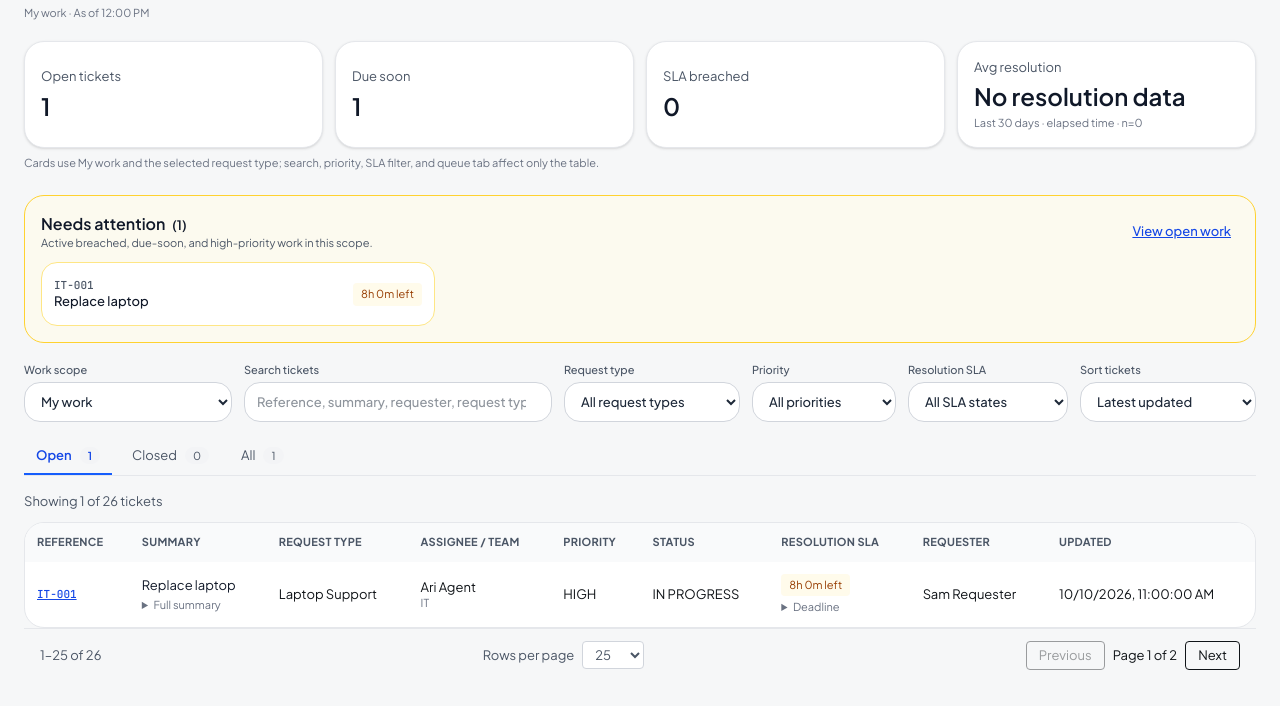
Test: AgentDashboard › moves to the last available page when a refresh shrinks the result set
The width and height of the screenshot is (1280, 706).
(page scrolled)
expect the link "IT-001" is shown: met, box left=37, top=587, right=77, bottom=601
Click the button "Next".
click(1213, 655)  # box left=1185, top=641, right=1240, bottom=670
(page scrolled)
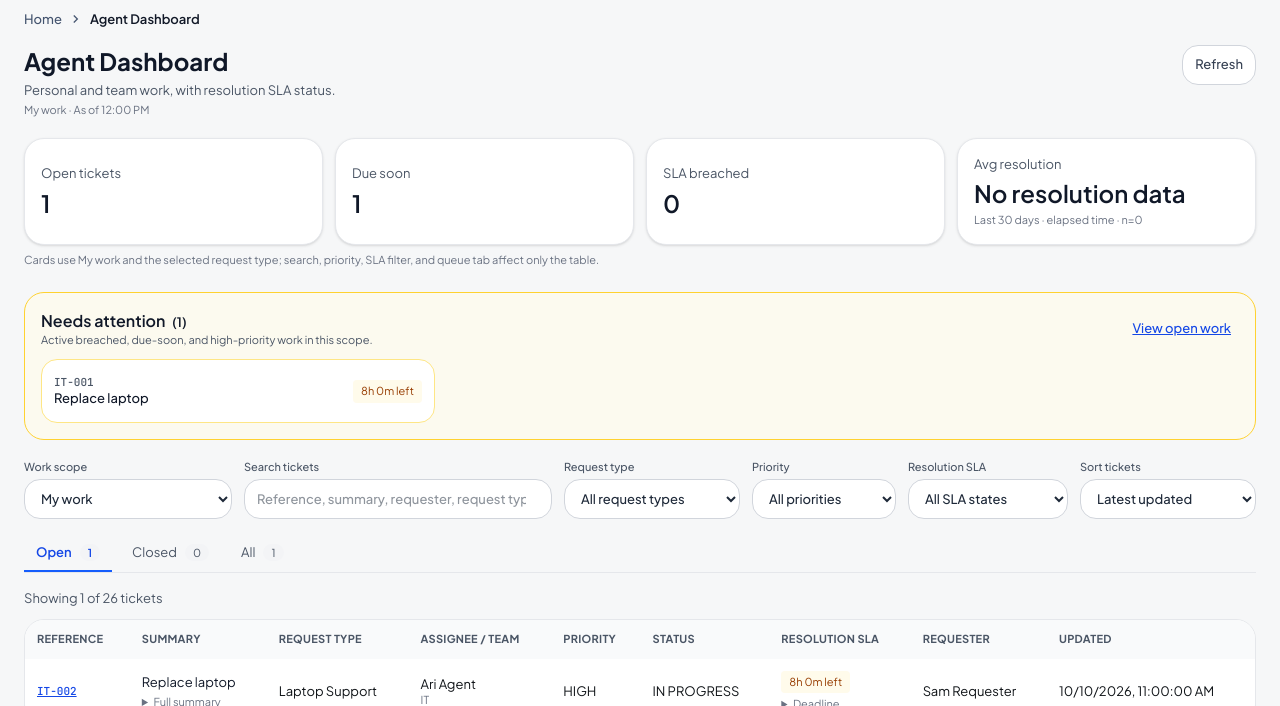
expect the link "IT-002" is shown: met, box left=37, top=684, right=77, bottom=698
Click the button "Refresh".
click(1219, 65)  # box left=1182, top=45, right=1256, bottom=85
(page scrolled)
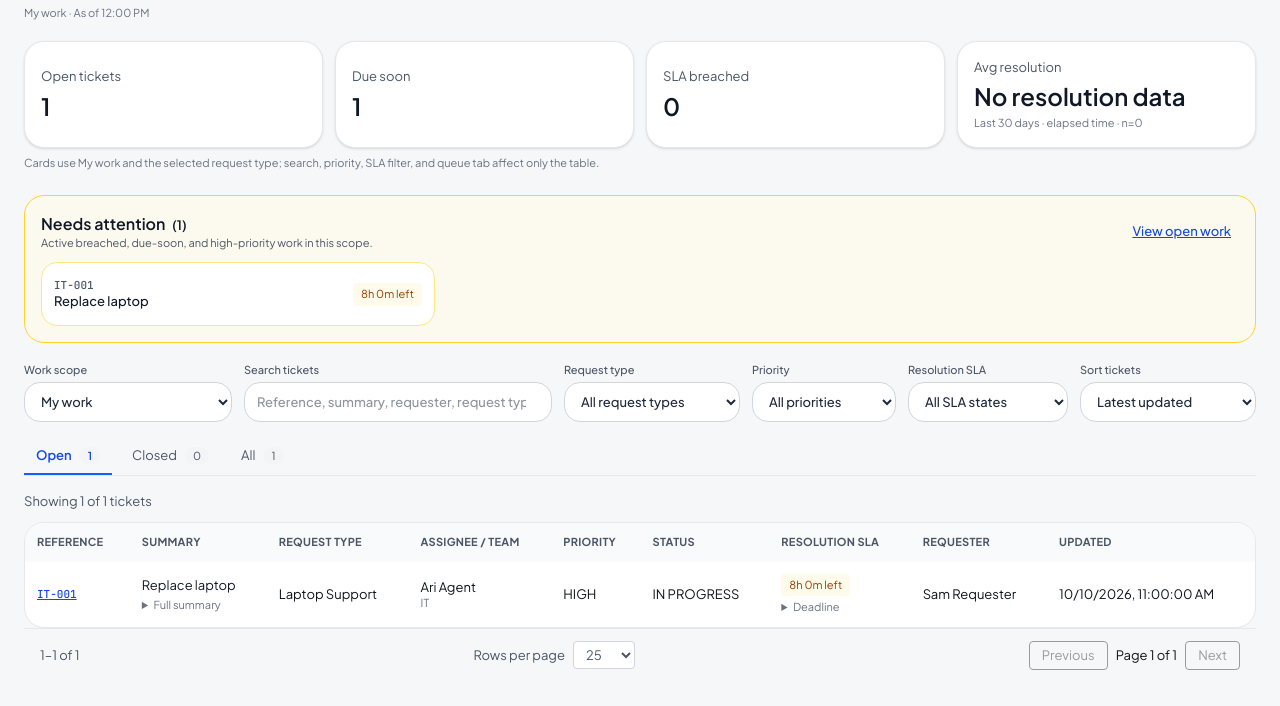
expect the link "IT-001" is shown: met, box left=37, top=587, right=77, bottom=601
expect the text "Page 1 of 1" is shown: met, box left=1116, top=646, right=1177, bottom=665
